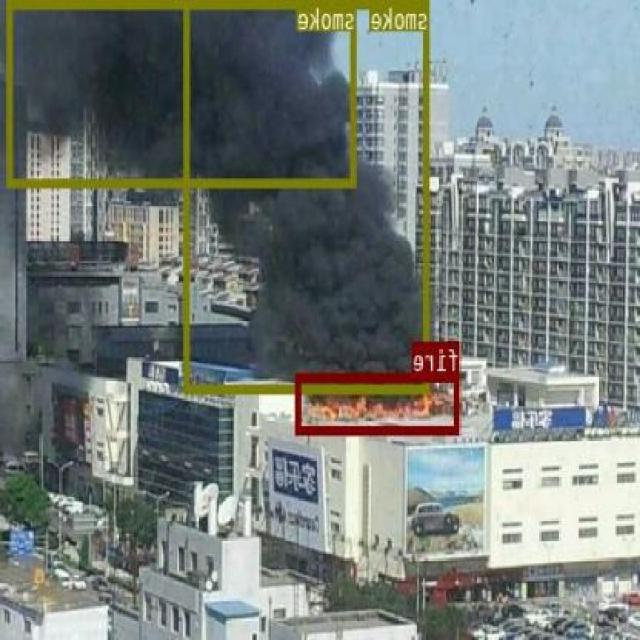fire: (296, 372, 462, 434)
smoke: (184, 0, 430, 391), (9, 0, 358, 185)
